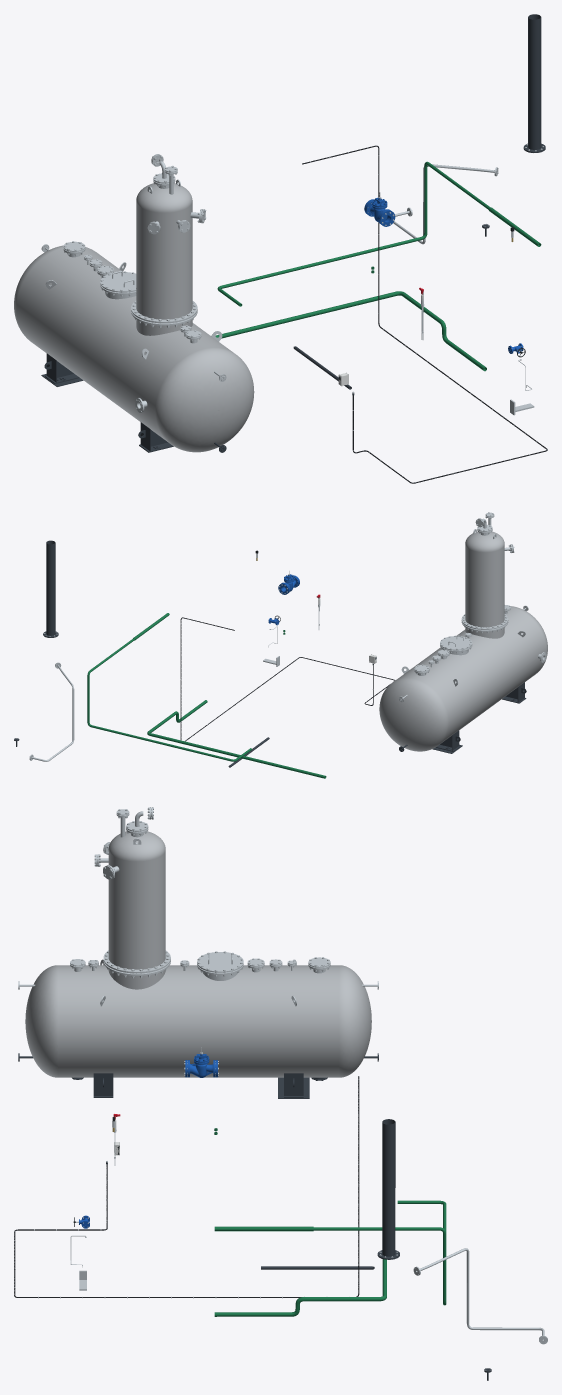
3 renders of one model, top to bottom at view 1: azimuth 30°, elevation 25°; view 2: azimuth 150°, elevation 25°; view 3: azimuth 270°, elevation 25°, orthographic. The views are drawn at different scales.
Visible parts, largest first — view 1: deaerator CAD solid 56, deaerator CAD solid 257, bdv_vent / dark, to_economizer / green, suction_common / green, mod_eco_drive_cable / black, deaerator CAD solid 408, trap_gap_to_bdv / steel; view 2: deaerator CAD solid 56, deaerator CAD solid 257, bdv_vent / dark, suction_common / green, to_economizer / green, mod_eco_drive_cable / black, trap_gap_to_bdv / steel, deaerator CAD solid 408; view 3: deaerator CAD solid 56, deaerator CAD solid 257, bdv_vent / dark, mod_eco_drive_cable / black, suction_common / green, to_economizer / green, trap_gap_to_bdv / steel, deaerator CAD solid 408.
Boxes of the visible parts, bbox=[...] form: deaerator CAD solid 56: bbox=[14, 245, 254, 452]; deaerator CAD solid 257: bbox=[136, 183, 192, 319]; bdv_vent / dark: bbox=[523, 14, 545, 152]; to_economizer / green: bbox=[217, 161, 490, 306]; suction_common / green: bbox=[215, 291, 486, 371]; mod_eco_drive_cable / black: bbox=[302, 145, 547, 483]; deaerator CAD solid 408: bbox=[100, 272, 136, 292]; trap_gap_to_bdv / steel: bbox=[393, 164, 498, 244]; deaerator CAD solid 56: bbox=[379, 606, 547, 751]; deaerator CAD solid 257: bbox=[465, 531, 504, 627]; bdv_vent / dark: bbox=[43, 540, 58, 637]; suction_common / green: bbox=[147, 700, 326, 778]; to_economizer / green: bbox=[87, 638, 251, 761]; mod_eco_drive_cable / black: bbox=[180, 617, 395, 741]; trap_gap_to_bdv / steel: bbox=[29, 662, 74, 761]; deaerator CAD solid 408: bbox=[440, 636, 472, 650]; deaerator CAD solid 56: bbox=[25, 965, 371, 1077]; deaerator CAD solid 257: bbox=[108, 831, 165, 969]; bdv_vent / dark: bbox=[377, 1119, 399, 1259]; mod_eco_drive_cable / black: bbox=[14, 1076, 359, 1297]; suction_common / green: bbox=[214, 1259, 386, 1316]; to_economizer / green: bbox=[313, 1200, 446, 1305]; trap_gap_to_bdv / steel: bbox=[413, 1248, 547, 1344]; deaerator CAD solid 408: bbox=[197, 952, 243, 972].
Bounding box in the file's own units: 8.25 × 4.73 × 6.74.
